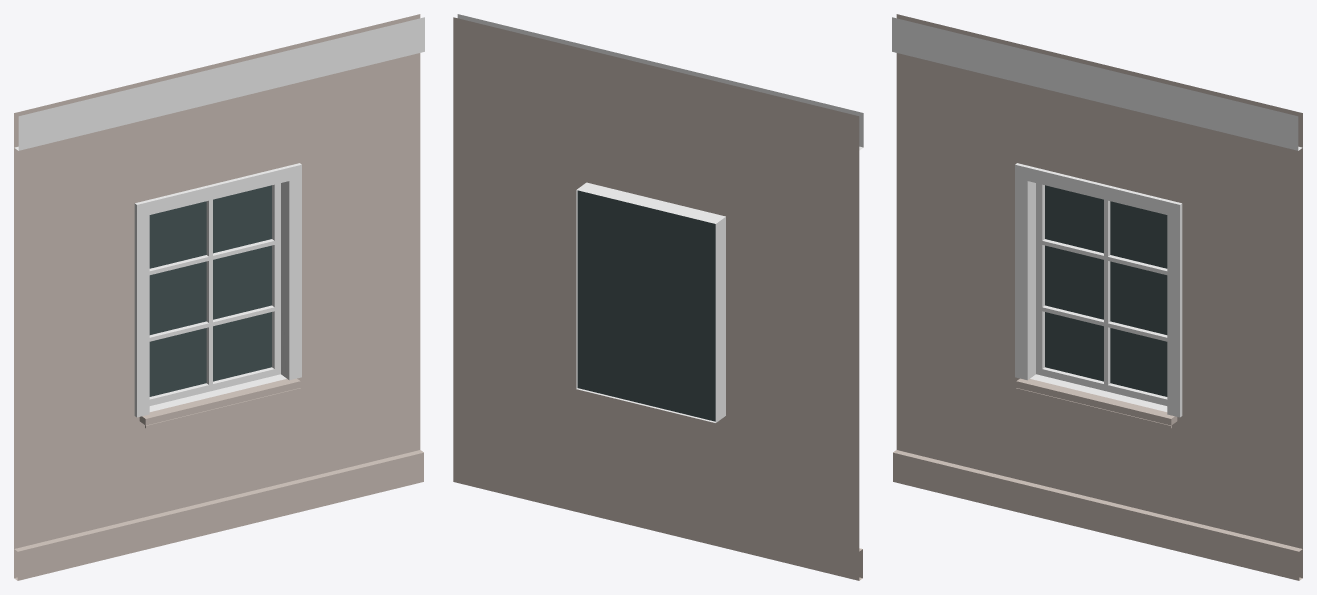
The model's file is top-w3_close.fbx.
3 renders of one model, left to right at view 1: azimuth 30°, elevation 25°; view 2: azimuth 150°, elevation 25°; view 3: azimuth 330°, elevation 25°, orthographic.
Visible parts, largest first — view 1: a2000s3/400/top-w3_close; view 2: a2000s3/400/top-w3_close; view 3: a2000s3/400/top-w3_close.
Part boxes in pixels (x1,y1,x2,y2): a2000s3/400/top-w3_close: (14,14,424,580); a2000s3/400/top-w3_close: (453,14,863,580); a2000s3/400/top-w3_close: (892,14,1302,580).
Bounding box in the file's own units: 3.2 × 3.5 × 0.225.
